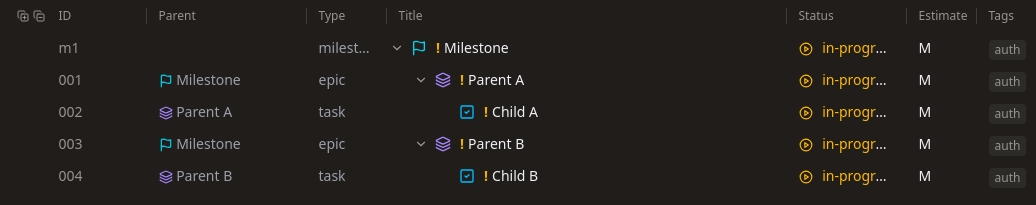
TreeTable › collapse-all button hides all children
Expected: the button "Child A" is shown, [492, 102, 538, 122]
Expected: the button "Child B" is shown, [492, 166, 538, 186]
Step 1. Click the button with test id "collapse-all" → [38, 16], box [30, 8, 46, 24]
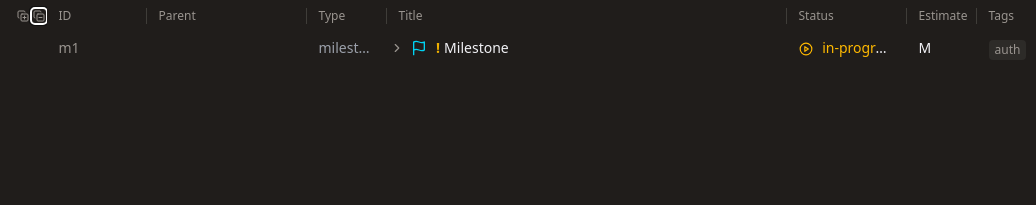
Expected: the button "Milestone" is shown, [444, 38, 509, 58]
Result: the button "Child A" is gone
Result: the button "Child B" is gone
